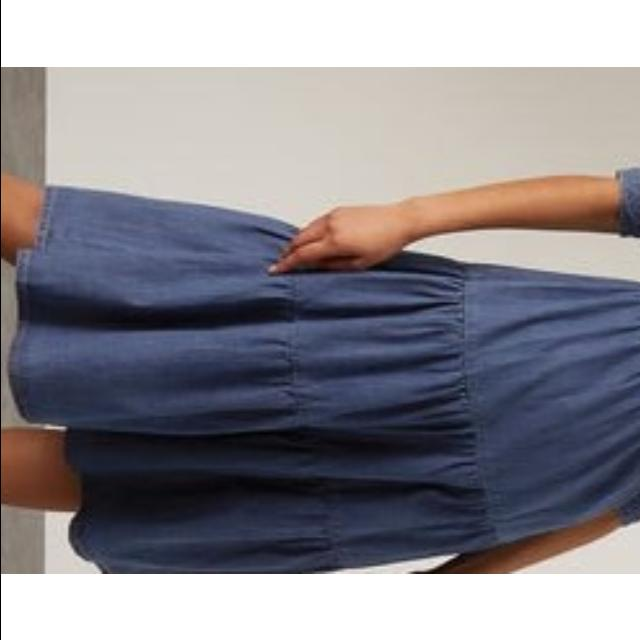cotton: (76, 289, 640, 485)
